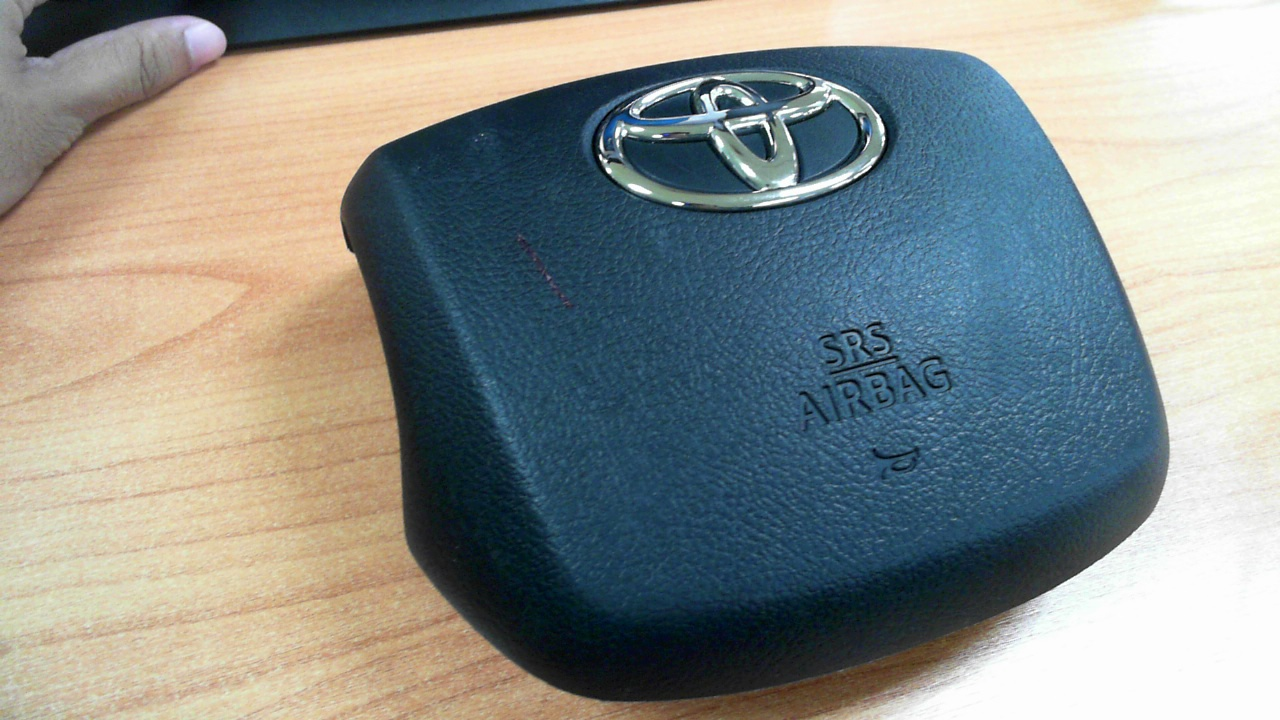Airbag: (341, 44, 1169, 703)
Toyota: (598, 68, 887, 210)
